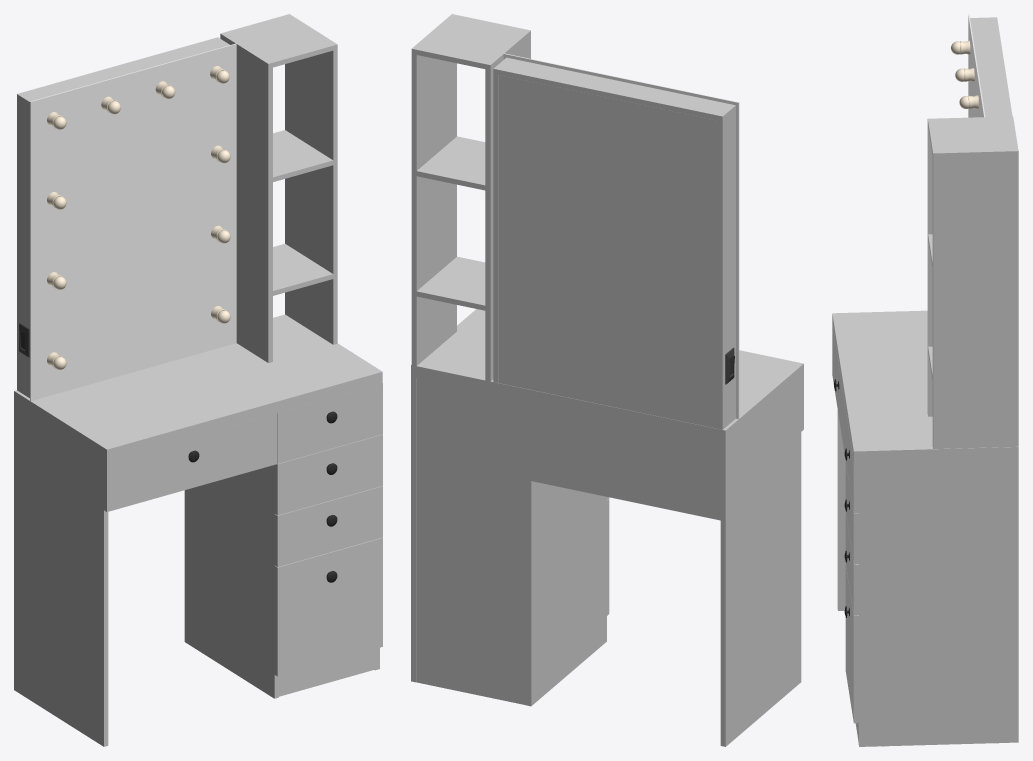
The model's file is mirror.glb.
3 views of the same model, side by side, from view 1: azimuth 30°, elevation 25°; view 2: azimuth 150°, elevation 25°; view 3: azimuth 270°, elevation 25° (orthographic). The views are drawn at different scales.
Parts seen in each view (by area): view 1: Merged Objects, Cube, лампы; view 2: Merged Objects, Cube; view 3: Merged Objects, Cube, лампы.
Boxes of the visible parts, x1,y1,x2,y2 form: Merged Objects: (14, 14, 382, 746); Cube: (30, 43, 236, 400); лампы: (47, 66, 230, 369); Merged Objects: (411, 14, 803, 746); Cube: (503, 53, 739, 418); Merged Objects: (832, 17, 1018, 746); Cube: (968, 14, 985, 117); лампы: (882, 40, 998, 746).
Bounding box in the file's own units: 0.4 × 0.7728 × 0.2205.
5 materials, 1 textured.
